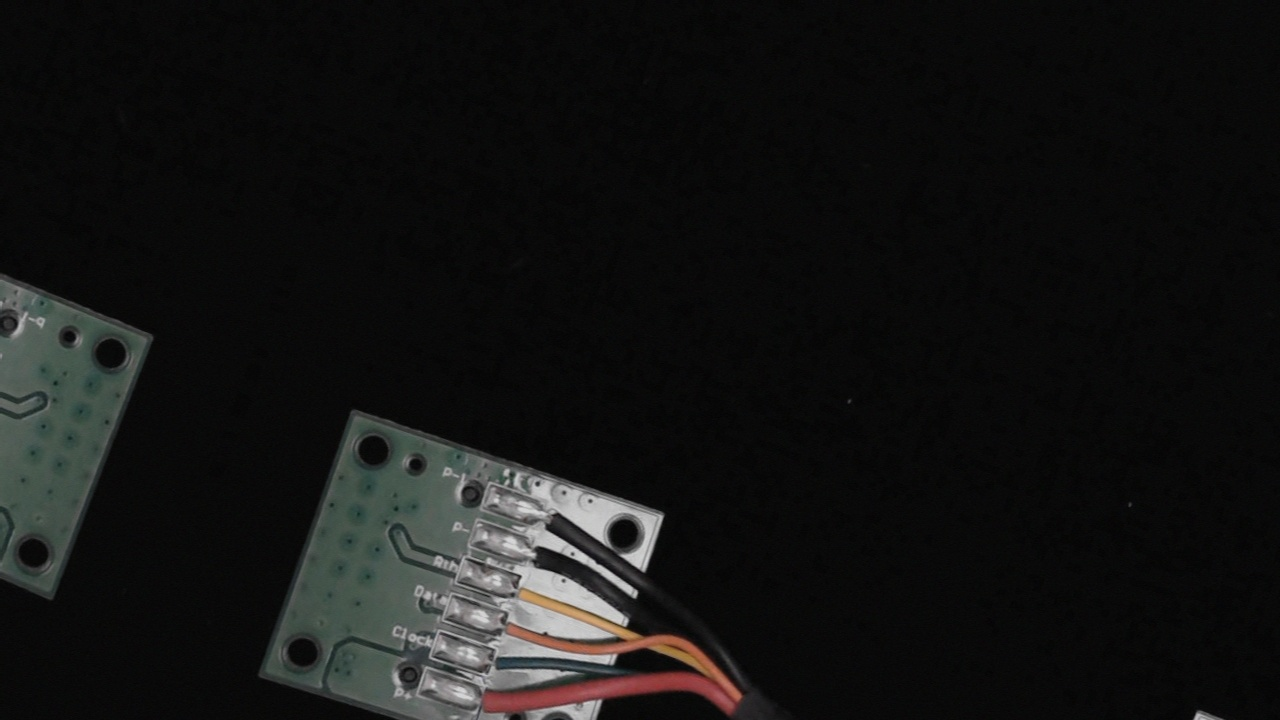Black: (506, 531, 581, 584)
Black1: (519, 493, 593, 547)
Green: (468, 639, 538, 692)
Orange: (477, 601, 556, 656)
Red: (455, 678, 532, 720)
Yellow: (490, 566, 572, 624)
